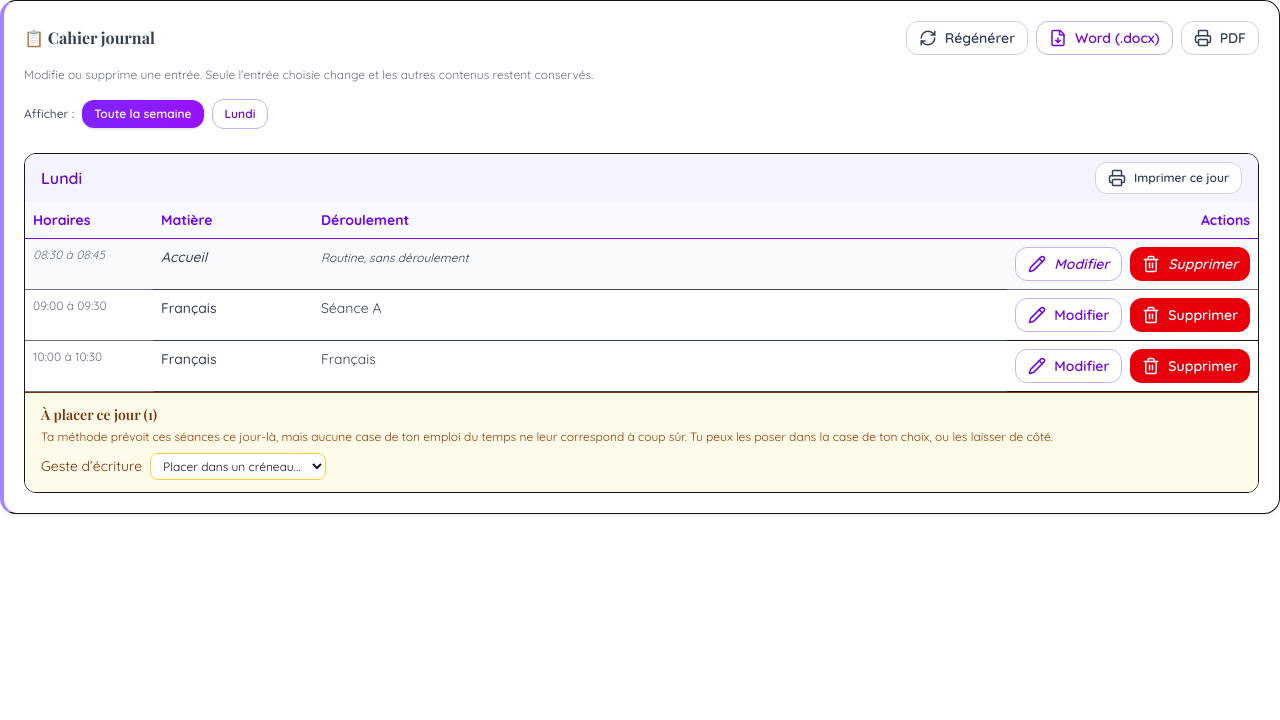
Test: CahierJournalEditor › poser une séance à placer dans un créneau › remplace le repère d’un créneau où rien n’est prévu, et enregistre
Expected: the text "Séance A" is shown, [313,290,1007,340]
Select "10:00 Français" in the dropdown named "Placer « Geste d’écriture » dans un créneau" at (238, 466), box [150,453,326,480]
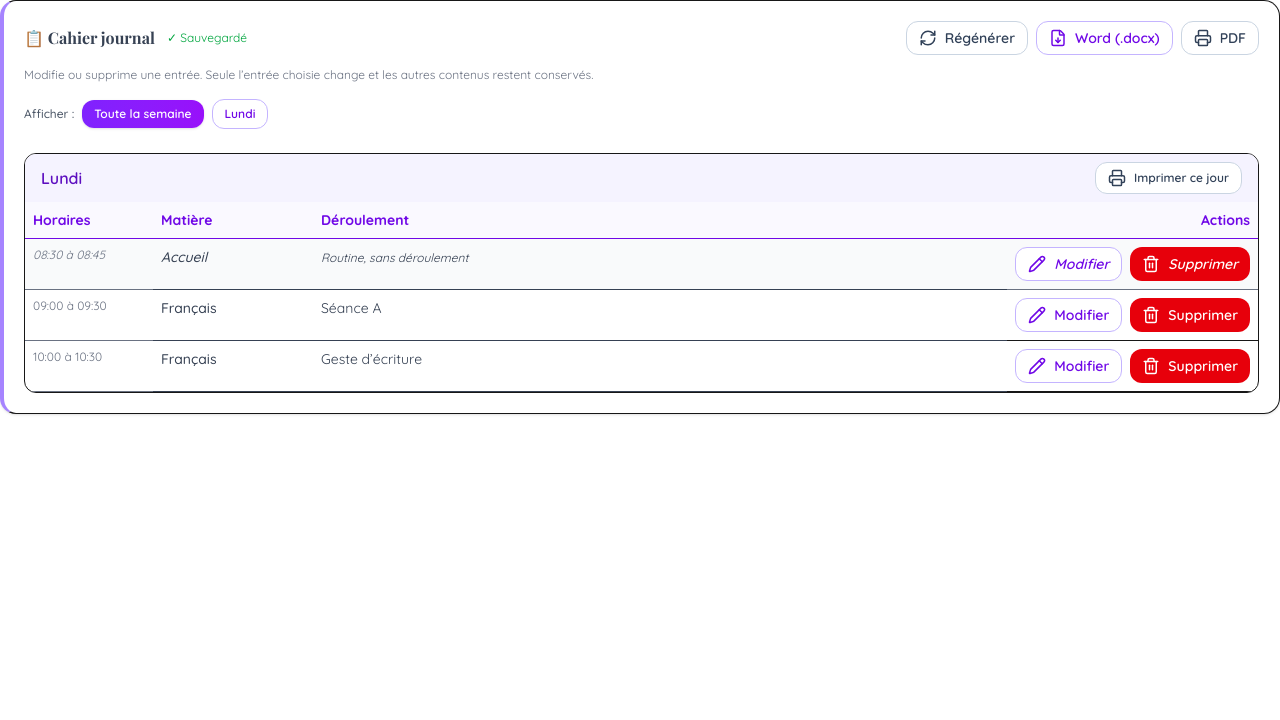
Expected: the text "Séance A" is shown, [313,290,1007,340]
Result: the cell "Geste d’écriture" is shown at [313,340,1007,392]
Result: the heading "À placer ce jour" is gone
